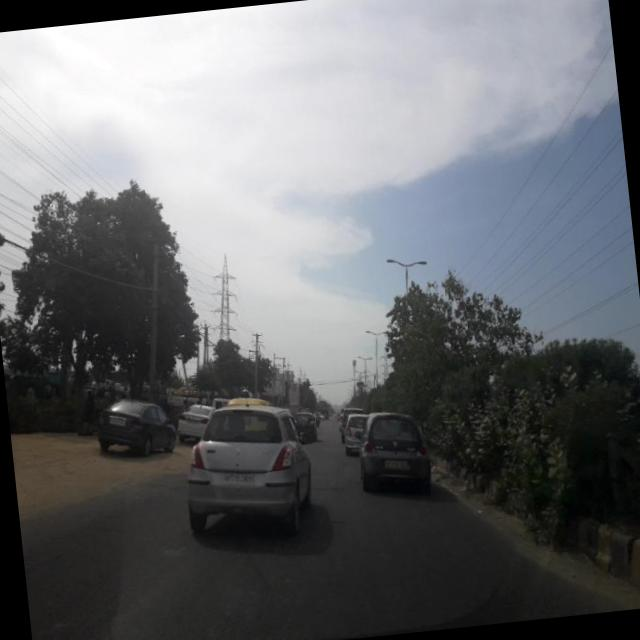crack: (22, 490, 570, 640)
